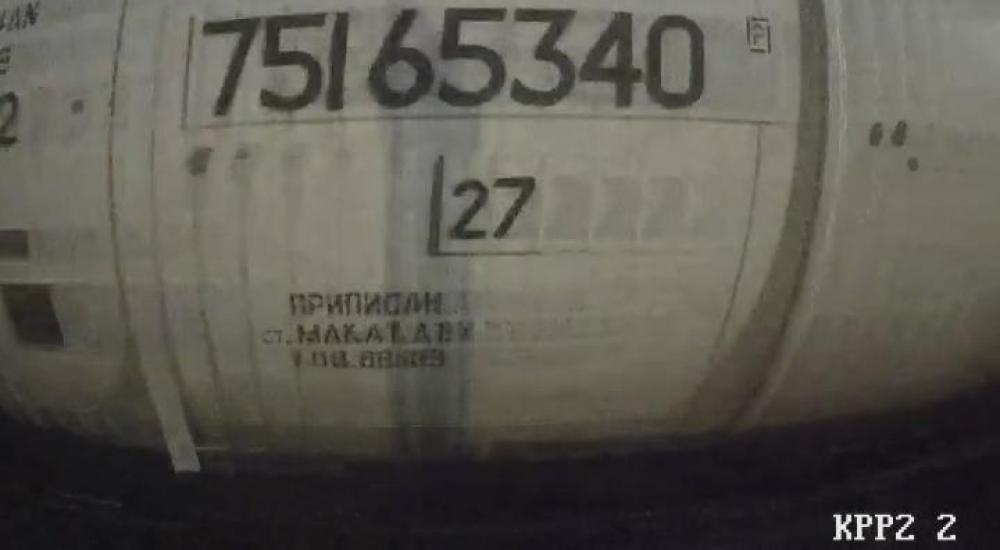Wagon-number: (196, 5, 712, 118)
